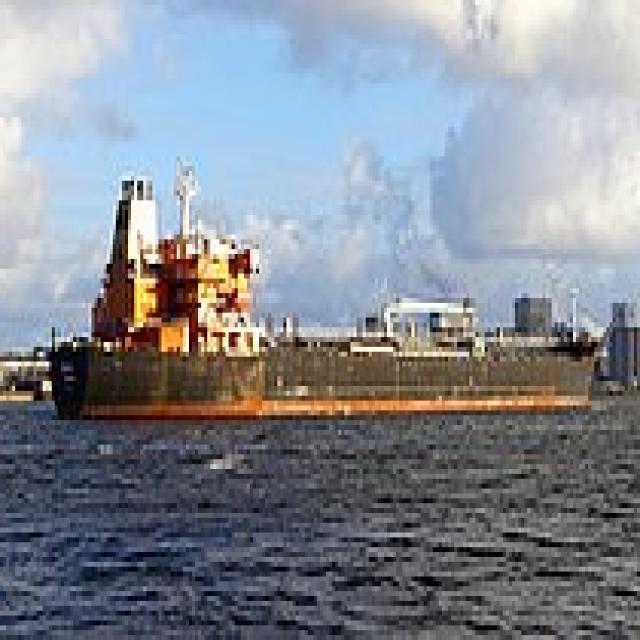Tanker: (52, 152, 603, 410)
